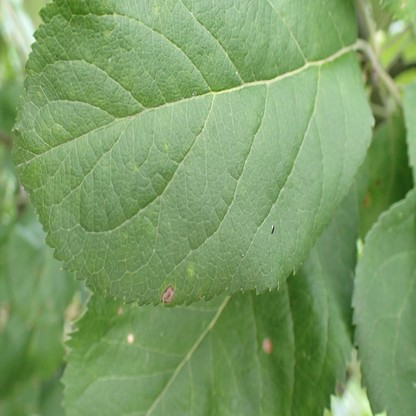frogeye_leaf_spot: (161, 286, 175, 303), (262, 339, 272, 353), (127, 333, 133, 343)
scab: (187, 261, 195, 275), (105, 30, 111, 38), (163, 143, 168, 149)
